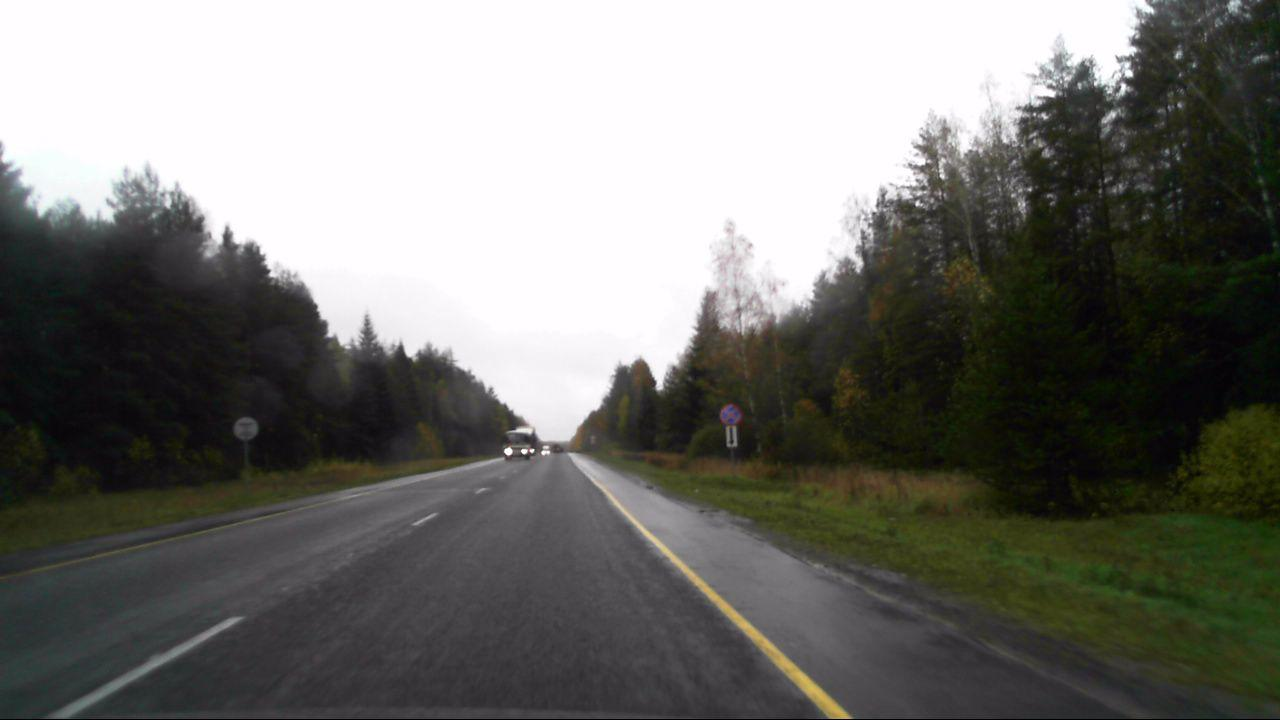road_sign: (719, 404, 743, 426), (726, 426, 738, 448)
